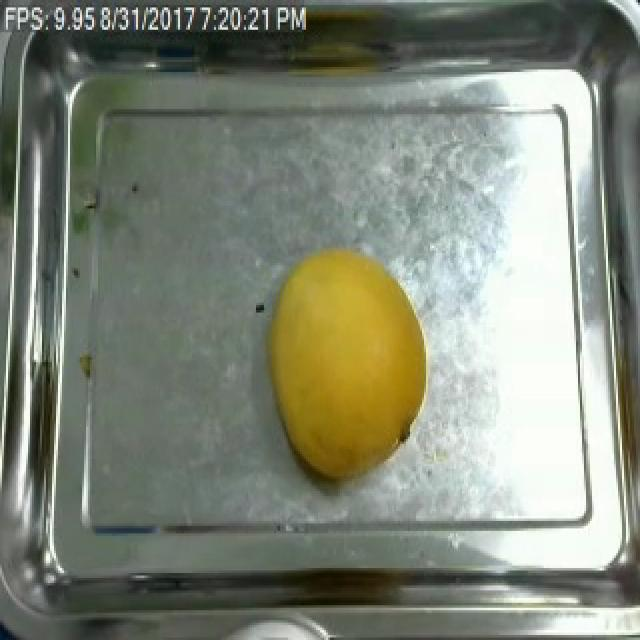fruit: (254, 238, 438, 496)
